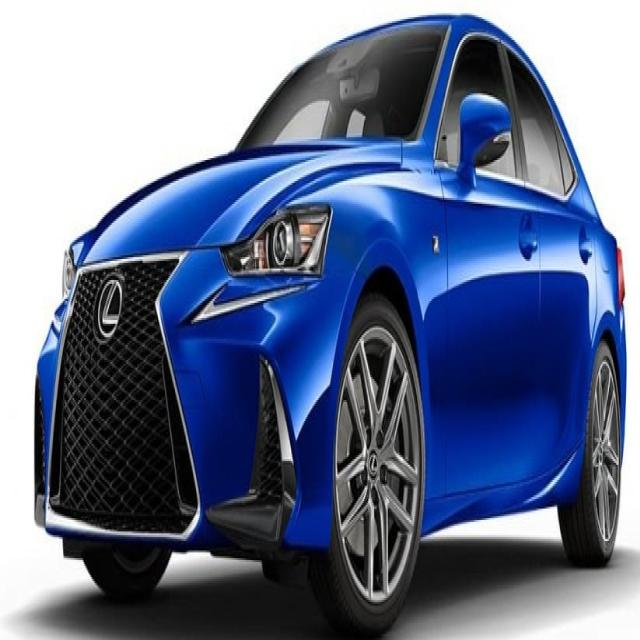blue: (36, 8, 625, 607)
